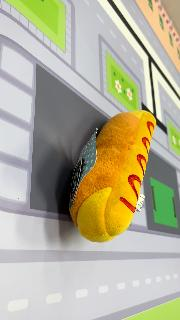hotdog: (69, 109, 157, 243)
